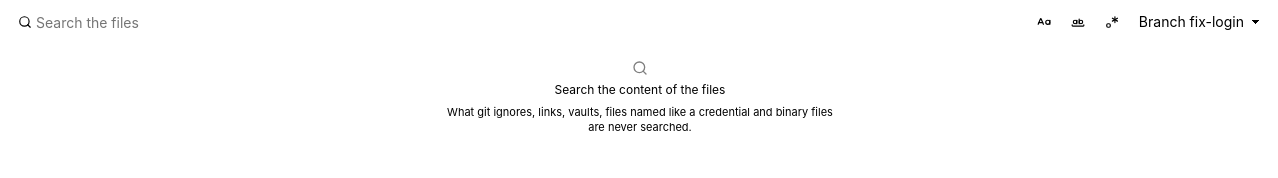
Test: the Search view › says each file it did not search, and why
This screenshot has width=1278, height=178.
Type "needle" into the search field labelled "Search the files" at (518, 22), box [12, 8, 1025, 36]
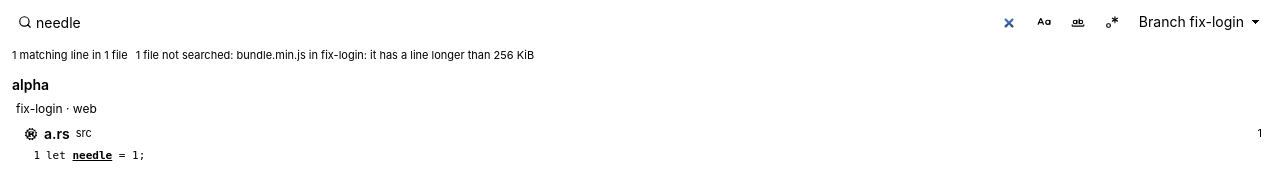
expect the text with test id "search-unsearched" shows "1 file not searched: bundle.min.js in fix-login: it has a line longer than 256 KiB": met, box [136, 48, 534, 62]
